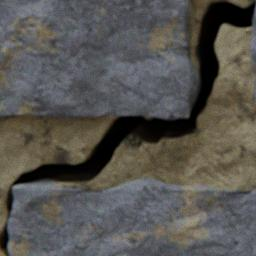brick: (0, 0, 199, 118), (9, 177, 255, 255), (250, 11, 255, 70), (254, 75, 255, 99)
crack: (0, 0, 255, 255)
